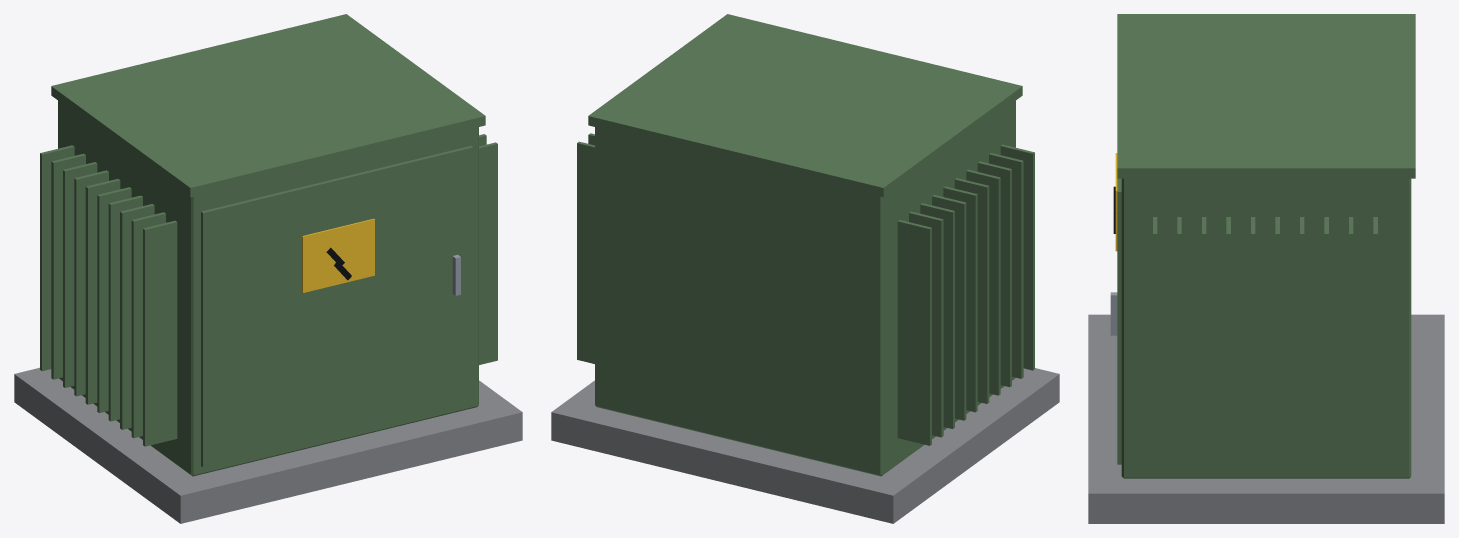
File: 47_Transformer_Pad_Mounted.fbx
The picture shows the model from 3 angles, left to right: view 1: azimuth 30°, elevation 25°; view 2: azimuth 150°, elevation 25°; view 3: azimuth 270°, elevation 25°; orthographic projection. The views are drawn at different scales.
Parts seen in each view (by area): view 1: 47_Transformer_Pad_Mounted; view 2: 47_Transformer_Pad_Mounted; view 3: 47_Transformer_Pad_Mounted.
Part boxes in pixels (x1,y1,x2,y2): 47_Transformer_Pad_Mounted: (14,14,522,523); 47_Transformer_Pad_Mounted: (551,14,1059,523); 47_Transformer_Pad_Mounted: (1088,14,1444,523).
Size of the model in its own units: 1.96 by 1.7 by 1.6.
